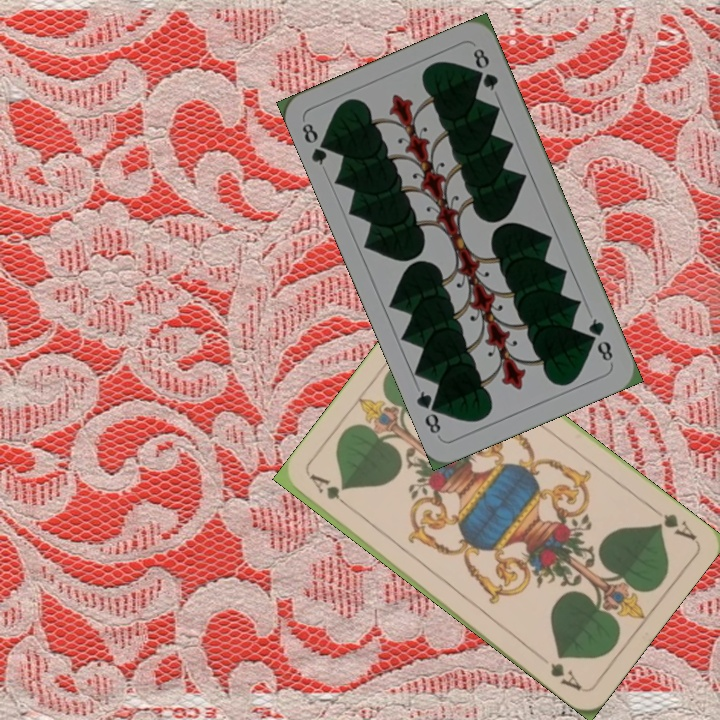G8: (297, 119, 334, 168), (584, 314, 616, 367)
GA: (306, 469, 356, 514), (647, 502, 699, 543)
